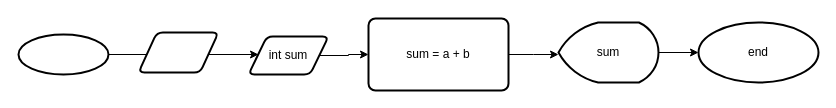
This 836x108 diagram has some shape labels left out. Each missing label, with the box of its shape:
Nhap a,b: (137, 31, 219, 73)
Start: (17, 33, 109, 75)
